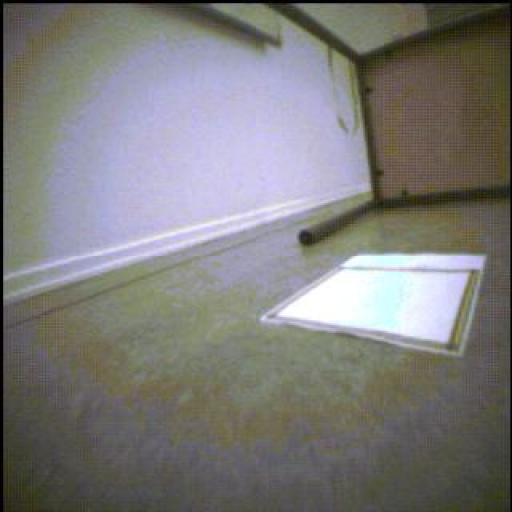Pad: (263, 256, 486, 357)
